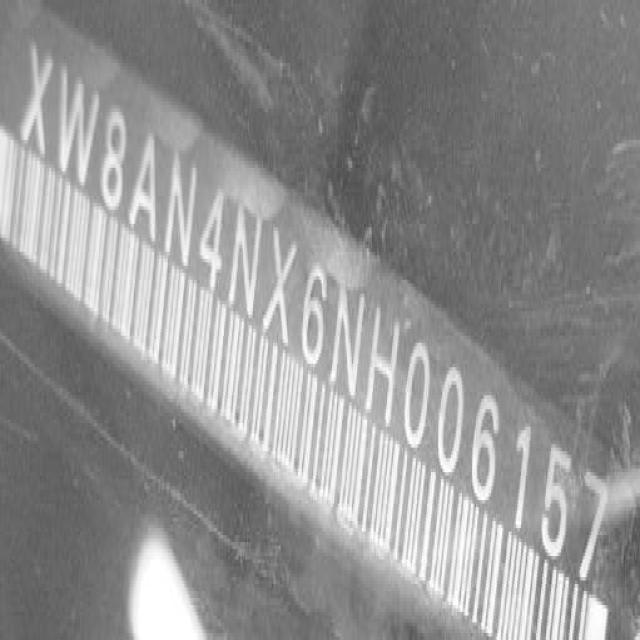0: (431, 352, 471, 490), (398, 328, 436, 464)
1: (505, 412, 536, 534)
4: (197, 167, 225, 297)
5: (539, 429, 578, 574)
6: (467, 374, 506, 512), (296, 249, 330, 372)
7: (571, 459, 609, 596)
8: (96, 100, 130, 218)
A: (126, 118, 166, 250)
H: (361, 291, 407, 439)
N: (328, 269, 366, 407), (159, 148, 199, 273), (226, 196, 263, 326)
W: (49, 56, 105, 194)
X: (260, 212, 301, 357), (17, 38, 56, 161)
